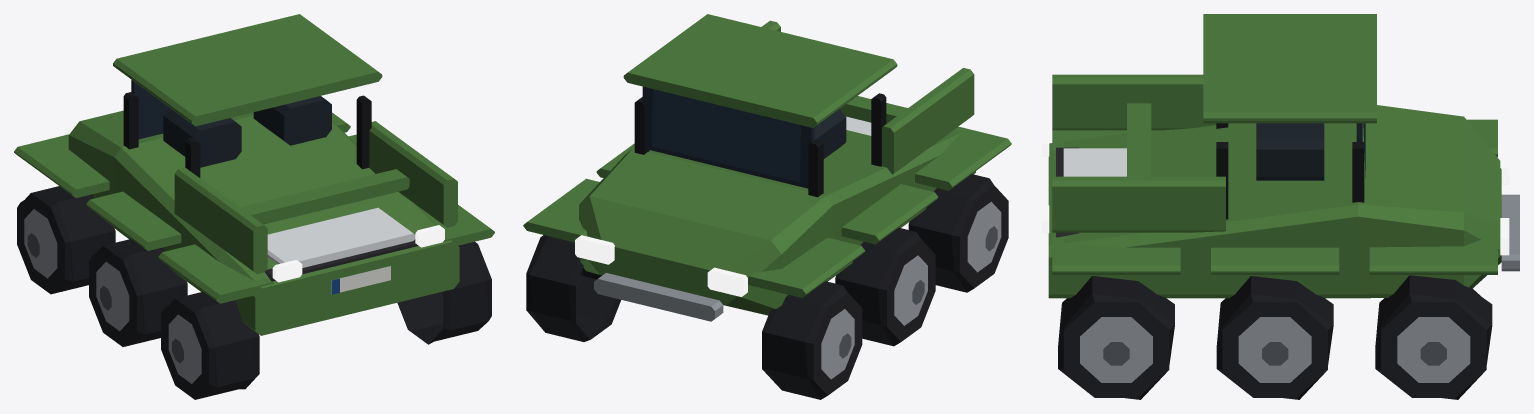
Rendered from six_lo.glb.
The picture shows the model from 3 angles, left to right: view 1: azimuth 30°, elevation 25°; view 2: azimuth 150°, elevation 25°; view 3: azimuth 270°, elevation 25°; orthographic projection. The views are drawn at different scales.
Visible parts, largest first — view 1: body.003, wheel_RL.003, wheel_FL.003, wheel_ML.001, wheel_RR.003; view 2: body.003, wheel_FL.003, wheel_RL.003, wheel_ML.001, wheel_FR.003; view 3: body.003, wheel_FR.003, wheel_MR.001, wheel_RR.003.
Part boxes in pixels (x1,y1,x2,y2): body.003: (14, 14, 494, 335); wheel_RL.003: (161, 291, 259, 399); wheel_FL.003: (17, 186, 115, 294); wheel_ML.001: (89, 239, 187, 346); wheel_RR.003: (397, 241, 491, 344); body.003: (523, 14, 1011, 321); wheel_FL.003: (762, 281, 862, 399); wheel_RL.003: (908, 174, 1008, 292); wheel_ML.001: (835, 227, 935, 346); wheel_FR.003: (526, 235, 620, 341); body.003: (1041, 14, 1519, 298); wheel_FR.003: (1375, 275, 1492, 399); wheel_MR.001: (1216, 276, 1333, 399); wheel_RR.003: (1058, 276, 1174, 399).
Bounding box in the file's own units: 2.5 × 1.93 × 3.18.
